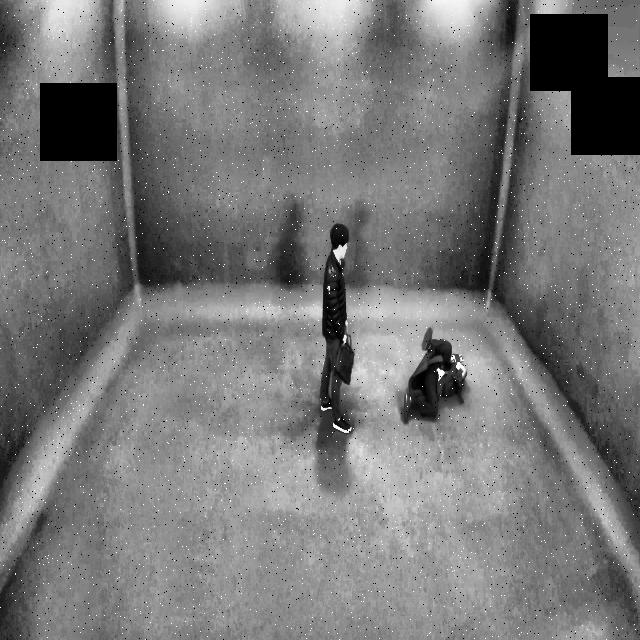assult: (319, 216, 473, 442), (401, 322, 465, 430)
